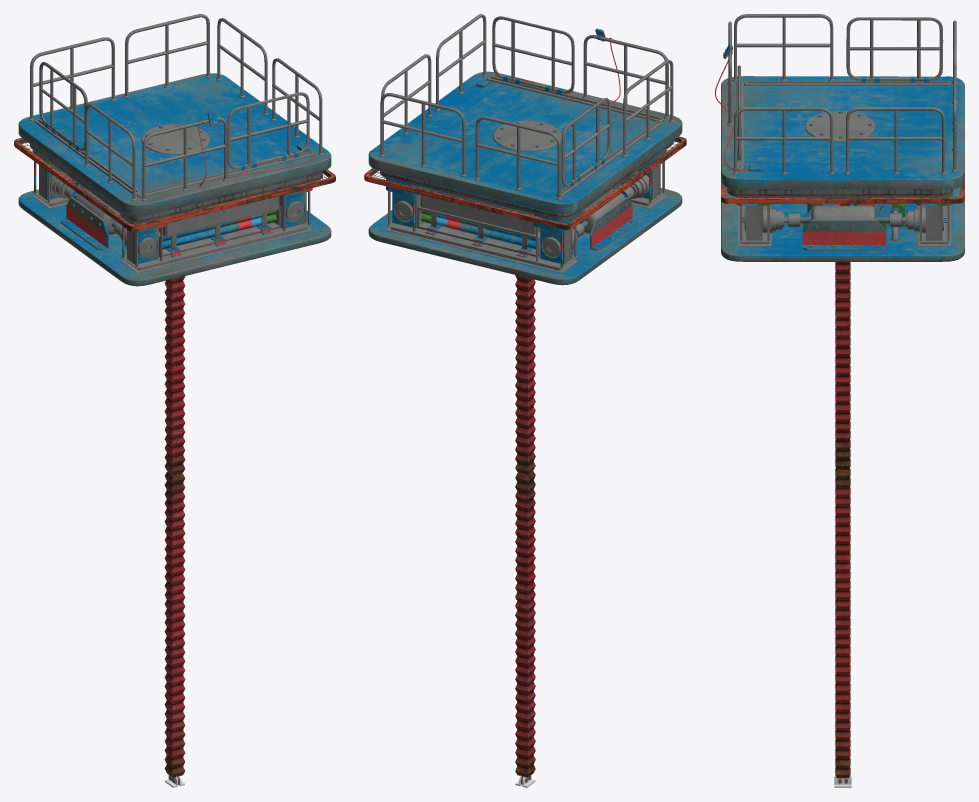
The model's file is Elevator.fbx.
3 renders of one model, left to right at view 1: azimuth 30°, elevation 25°; view 2: azimuth 150°, elevation 25°; view 3: azimuth 270°, elevation 25°, orthographic. The views are drawn at different scales.
Visible parts, largest first — view 1: SM_ElevatorHeroTop_B.mo, SM_ElevatorHeroBottom_A.mo, SM_ElevatorHeroSupport_A.mo, SM_Grate_Elevator.mo, SM_ElevatorHeroDoor_A.mo, SM_ElevatorHeroDoor_A.mo.001; view 2: SM_ElevatorHeroTop_B.mo, SM_ElevatorHeroBottom_A.mo, SM_ElevatorHeroSupport_A.mo, SM_Grate_Elevator.mo, SM_ElevatorHeroDoor_A.mo, SM_ElevatorHeroDoor_A.mo.001; view 3: SM_ElevatorHeroTop_B.mo, SM_ElevatorHeroBottom_A.mo, SM_ElevatorHeroSupport_A.mo, SM_ElevatorHeroDoor_A.mo.001, SM_Grate_Elevator.mo.
Part boxes in pixels (<box>): SM_ElevatorHeroTop_B.mo: <box>18,14,331,223</box>; SM_ElevatorHeroBottom_A.mo: <box>18,150,331,286</box>; SM_ElevatorHeroSupport_A.mo: <box>164,276,185,787</box>; SM_Grate_Elevator.mo: <box>14,138,335,230</box>; SM_ElevatorHeroDoor_A.mo: <box>227,92,309,171</box>; SM_ElevatorHeroDoor_A.mo.001: <box>39,62,87,152</box>; SM_ElevatorHeroTop_B.mo: <box>368,14,682,220</box>; SM_ElevatorHeroBottom_A.mo: <box>368,150,682,285</box>; SM_ElevatorHeroSupport_A.mo: <box>515,275,535,787</box>; SM_Grate_Elevator.mo: <box>364,136,686,229</box>; SM_ElevatorHeroDoor_A.mo: <box>492,16,574,96</box>; SM_ElevatorHeroDoor_A.mo.001: <box>561,98,610,188</box>; SM_ElevatorHeroTop_B.mo: <box>715,14,964,197</box>; SM_ElevatorHeroBottom_A.mo: <box>721,186,964,261</box>; SM_ElevatorHeroSupport_A.mo: <box>834,203,851,787</box>; SM_ElevatorHeroDoor_A.mo.001: <box>846,17,943,83</box>; SM_Grate_Elevator.mo: <box>721,180,964,203</box>.
Bounding box in the file's own units: 349 × 1153 × 357.
